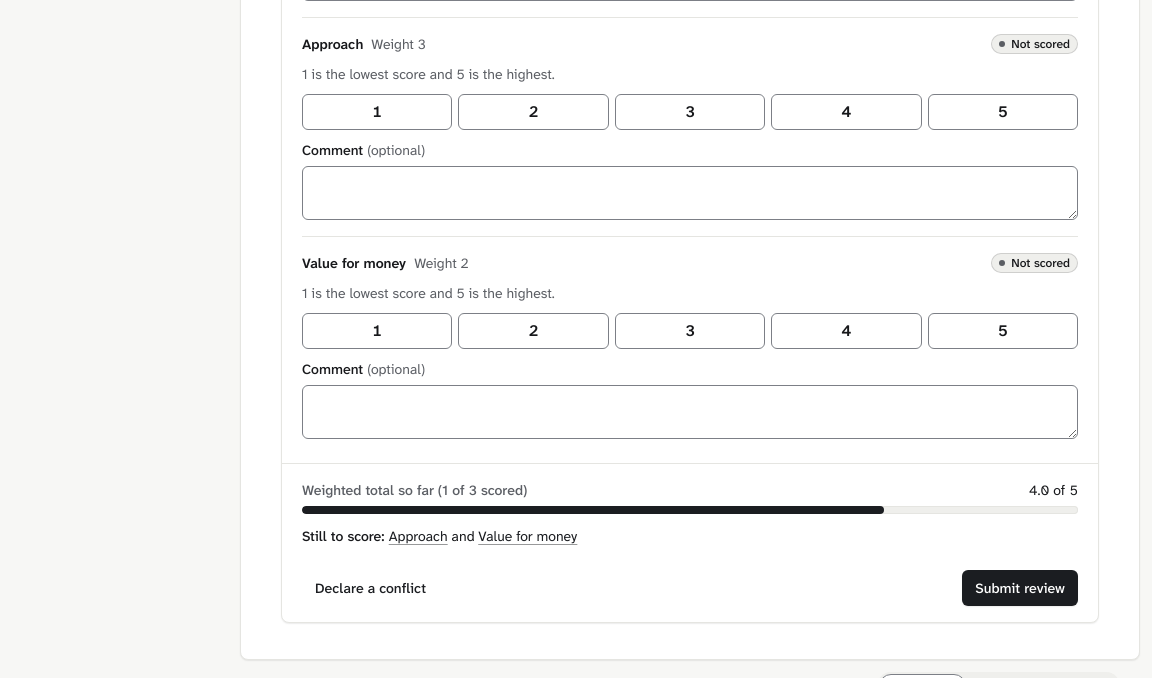
Test: the scoring workspace › says a save failed and saves again on request
(page scrolled)
Click the 2nd radio button labelled "5": x=1003, y=331 top-left (928, 313), bottom-right (1078, 349)
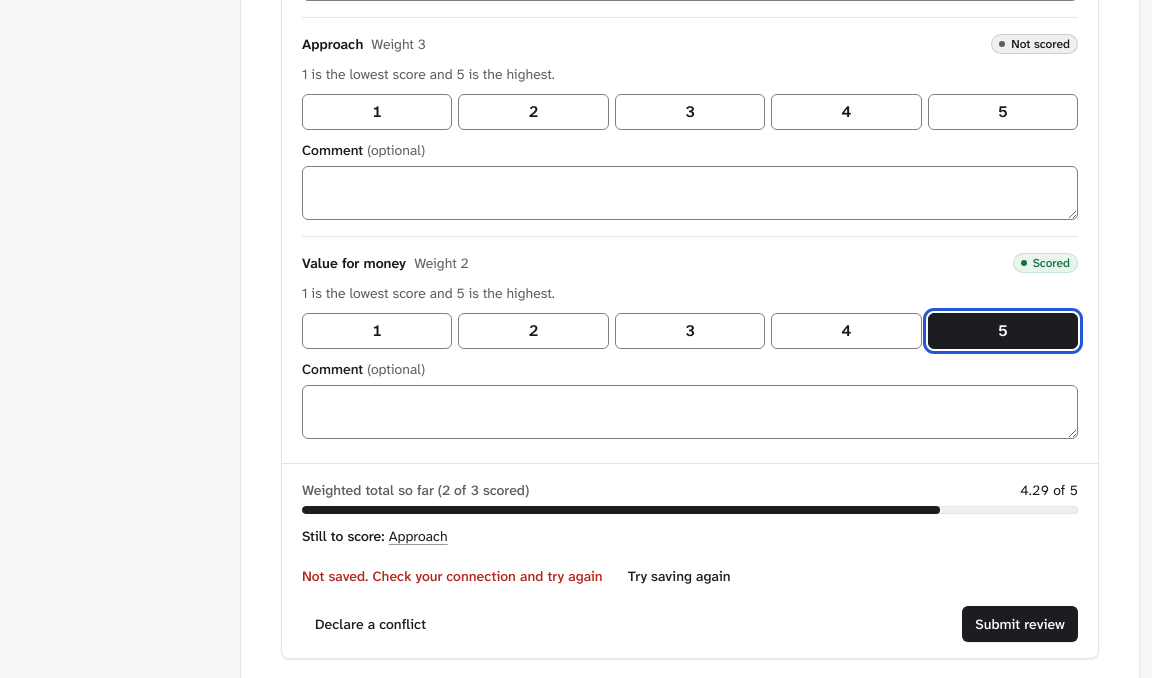
Now the text "Not saved. Check your connection and try again" is shown, box top-left (302, 566), bottom-right (603, 586)
Click the button "Try saving again": x=679, y=576 top-left (615, 558), bottom-right (744, 594)
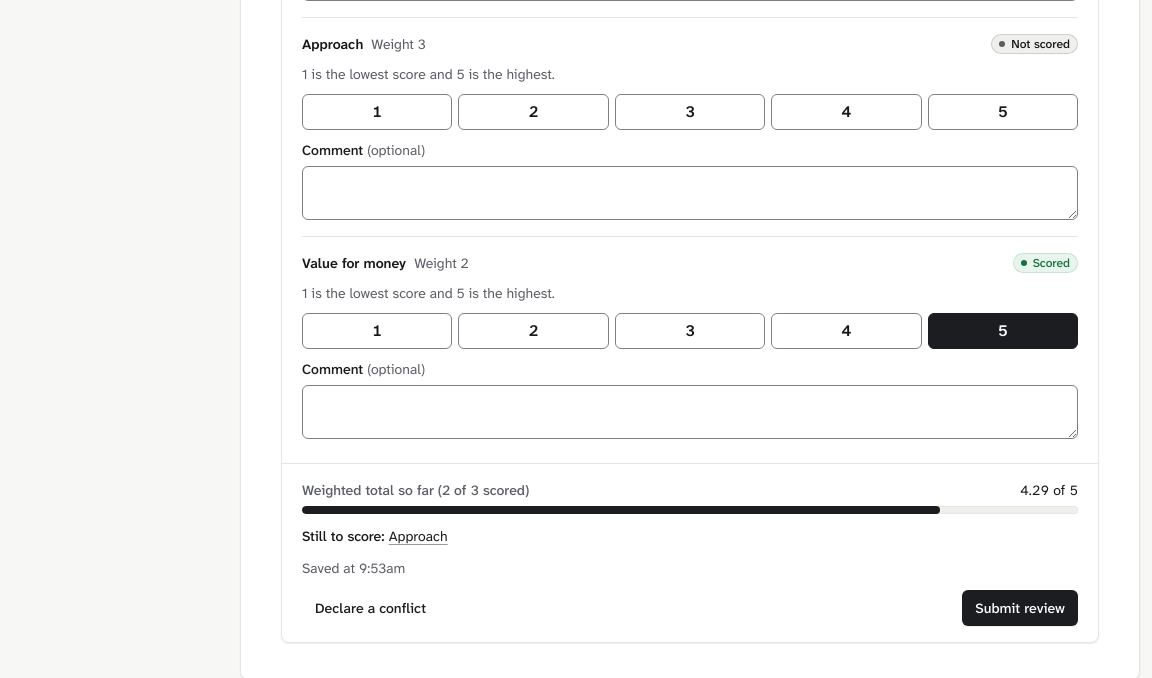
Now the text "Saved at 9:53am" is shown, box top-left (302, 558), bottom-right (405, 578)
